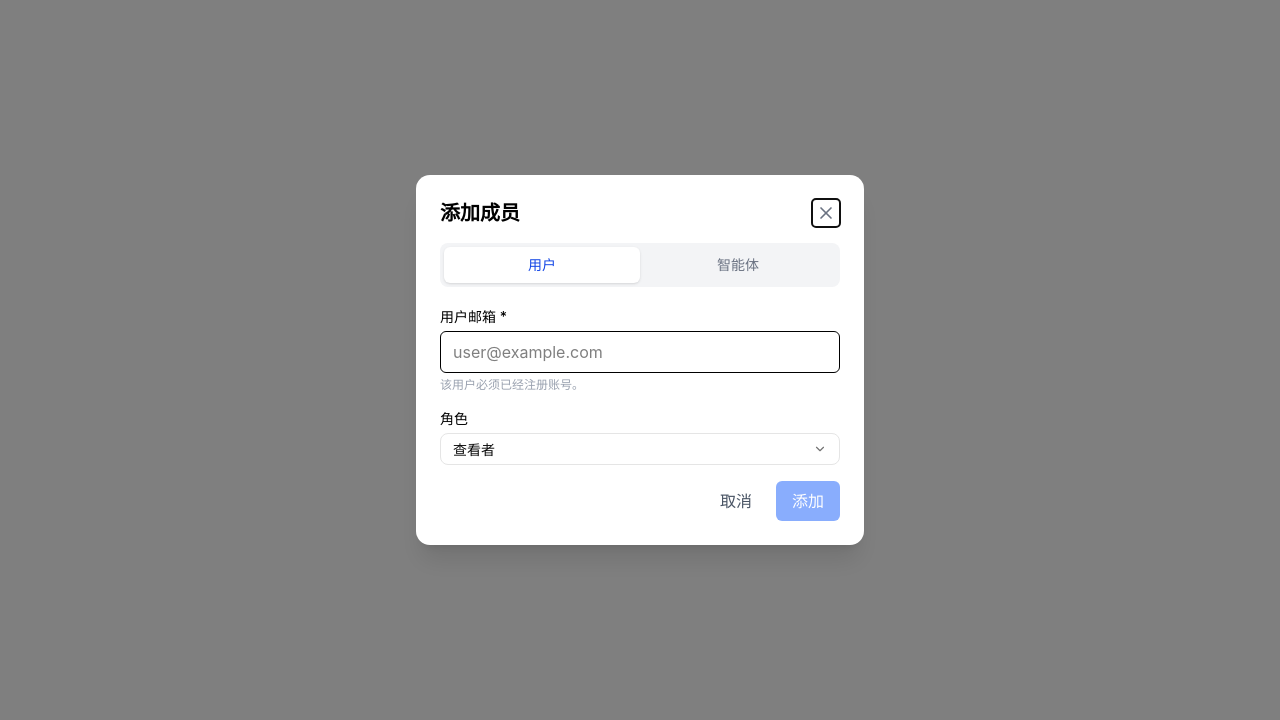
it: AddSpaceMemberDialog › localizes denied member creation (zh=true)
Type "member@example.com" into the field labelled "用户邮箱 *" at {"x": 640, "y": 352}, box [440,331,840,373]
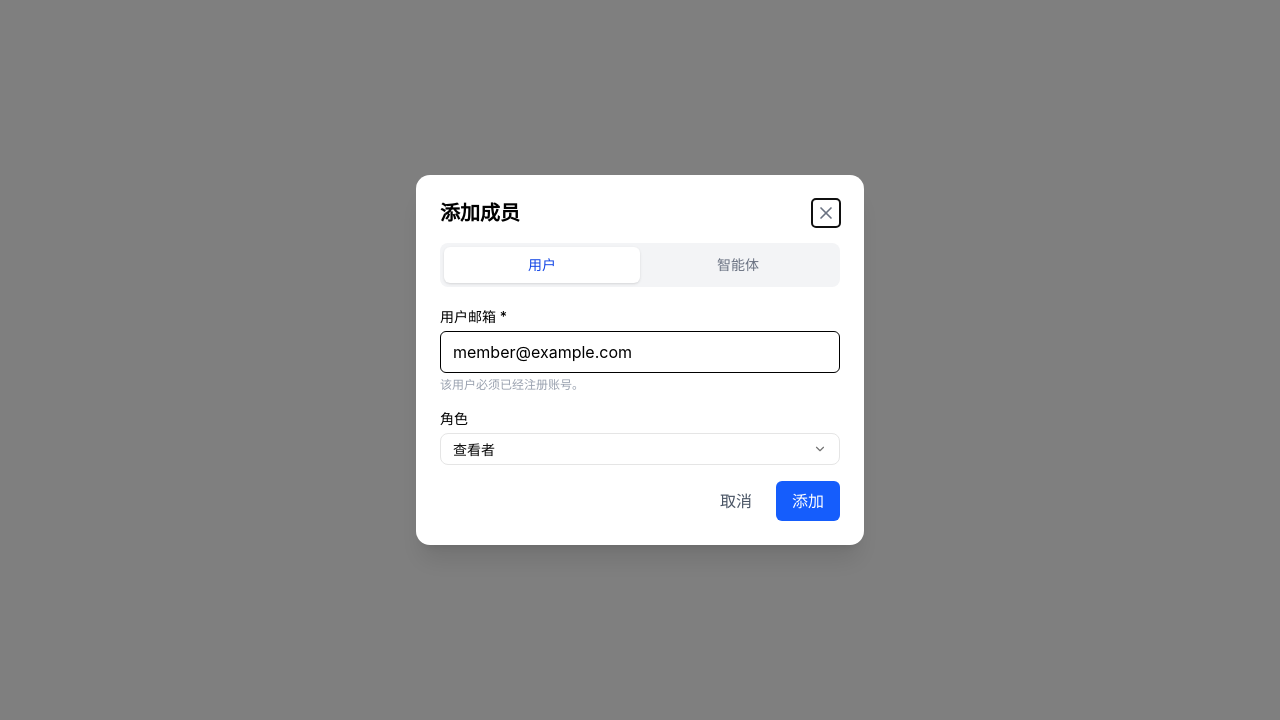
Click the button "添加" at {"x": 808, "y": 501}, box [776,481,840,521]
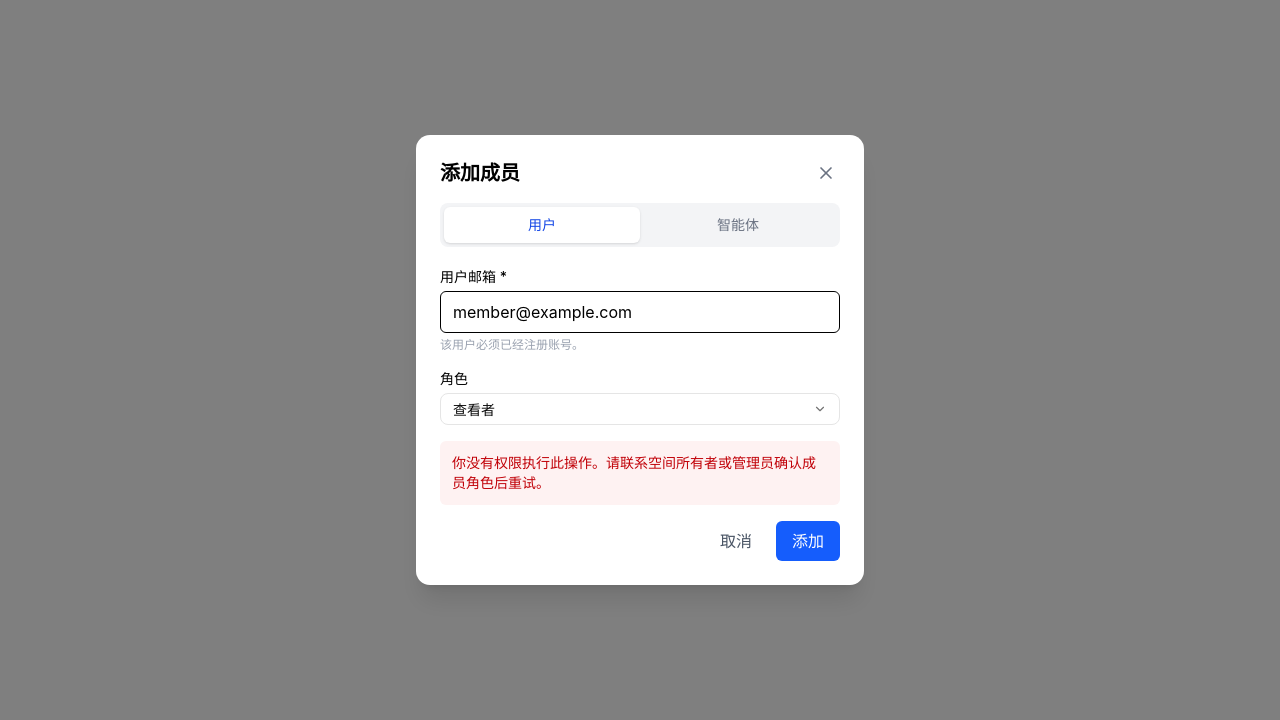
Expected: the message reads "你没有权限执行此操作。请联系空间所有者或管理员确认成员角色后重试。", [452,454,816,491]
